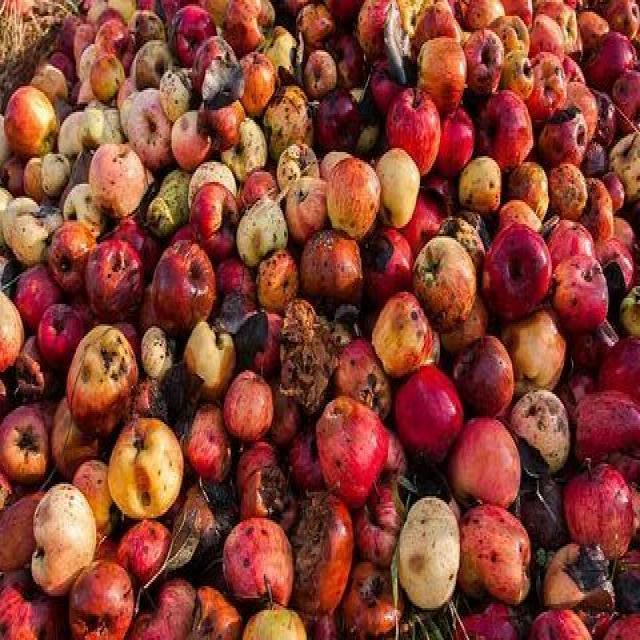Rotten: (480, 224, 552, 320), (142, 246, 224, 330), (386, 98, 458, 174), (86, 236, 148, 324), (558, 260, 618, 334), (330, 348, 394, 412), (480, 102, 536, 166), (412, 48, 468, 112), (466, 34, 500, 94), (498, 58, 538, 102)
